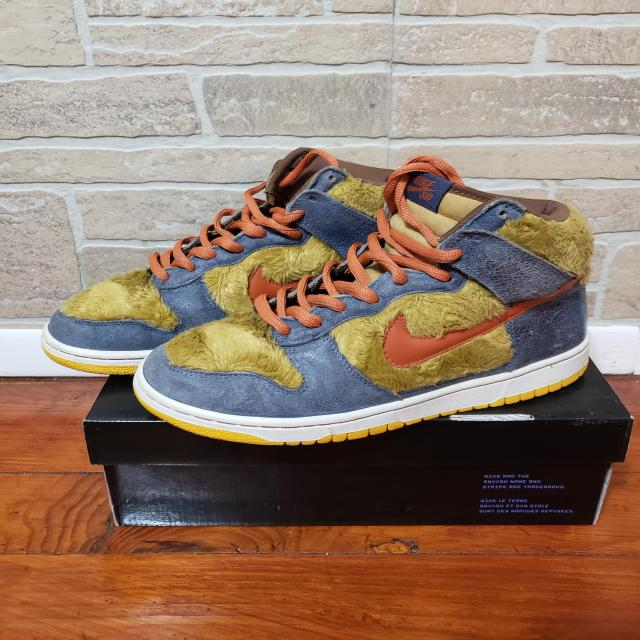shoe: (124, 142, 606, 462), (33, 133, 417, 397)
